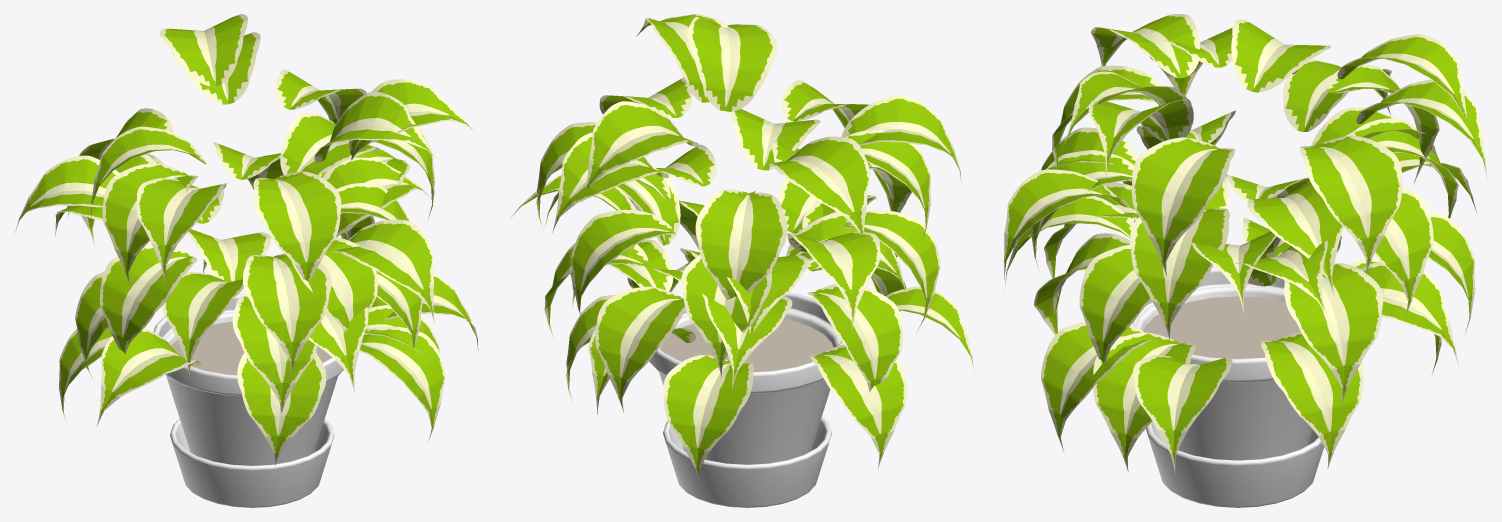
File: indoor_plant.glb
3 views of the same model, side by side, from view 1: azimuth 30°, elevation 25°; view 2: azimuth 150°, elevation 25°; view 3: azimuth 270°, elevation 25° (orthographic). The views are drawn at different scales.
Parts seen in each view (by area): view 1: Mesh2_Color_F11_0, Mesh2__Color_E04_1_0, Mesh2_FrontColor_0, Mesh1_FrontColor_0, Mesh2_Groundcover_Gravel_1inch_0; view 2: Mesh2_Color_F11_0, Mesh2__Color_E04_1_0, Mesh2_FrontColor_0, Mesh1_FrontColor_0, Mesh2_Groundcover_Gravel_1inch_0; view 3: Mesh2_Color_F11_0, Mesh2__Color_E04_1_0, Mesh2_FrontColor_0, Mesh1_FrontColor_0, Mesh2_Groundcover_Gravel_1inch_0.
Part boxes in pixels (left/top/right/bottom): Mesh2_Color_F11_0: left=19, top=15, right=477, bottom=460; Mesh2__Color_E04_1_0: left=15, top=14, right=478, bottom=465; Mesh2_FrontColor_0: left=153, top=294, right=343, bottom=465; Mesh1_FrontColor_0: left=170, top=418, right=334, bottom=507; Mesh2_Groundcover_Gravel_1inch_0: left=171, top=321, right=331, bottom=374; Mesh2_Color_F11_0: left=517, top=14, right=972, bottom=474; Mesh2__Color_E04_1_0: left=510, top=14, right=974, bottom=482; Mesh2_FrontColor_0: left=649, top=292, right=854, bottom=464; Mesh1_FrontColor_0: left=663, top=416, right=831, bottom=507; Mesh2_Groundcover_Gravel_1inch_0: left=661, top=319, right=833, bottom=371; Mesh2_Color_F11_0: left=1005, top=16, right=1485, bottom=465; Mesh2__Color_E04_1_0: left=1004, top=14, right=1487, bottom=473; Mesh2_FrontColor_0: left=1131, top=267, right=1312, bottom=460; Mesh1_FrontColor_0: left=1146, top=421, right=1323, bottom=507; Mesh2_Groundcover_Gravel_1inch_0: left=1143, top=296, right=1300, bottom=358.
Bounding box in the file's own units: 1.08 × 1.06 × 1.04.
